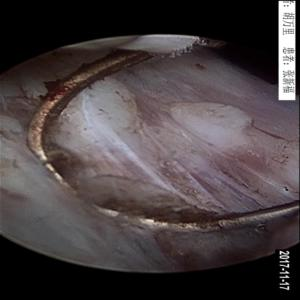film: (68, 85, 279, 208)
